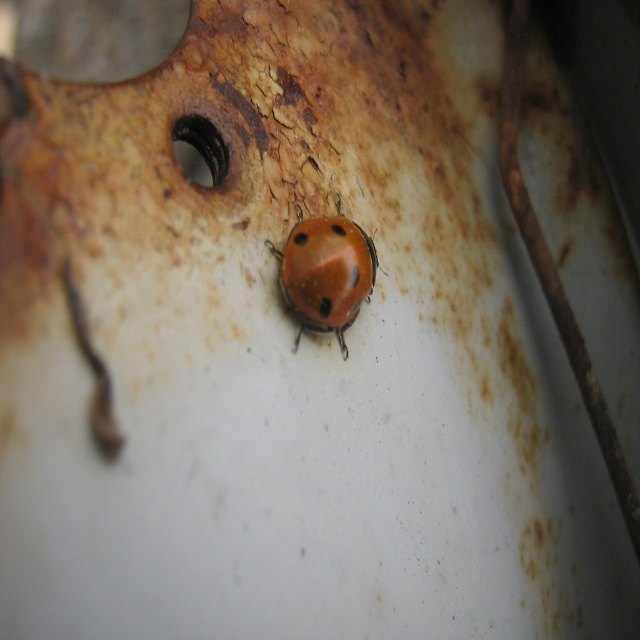Ladybug: (263, 191, 389, 357)
